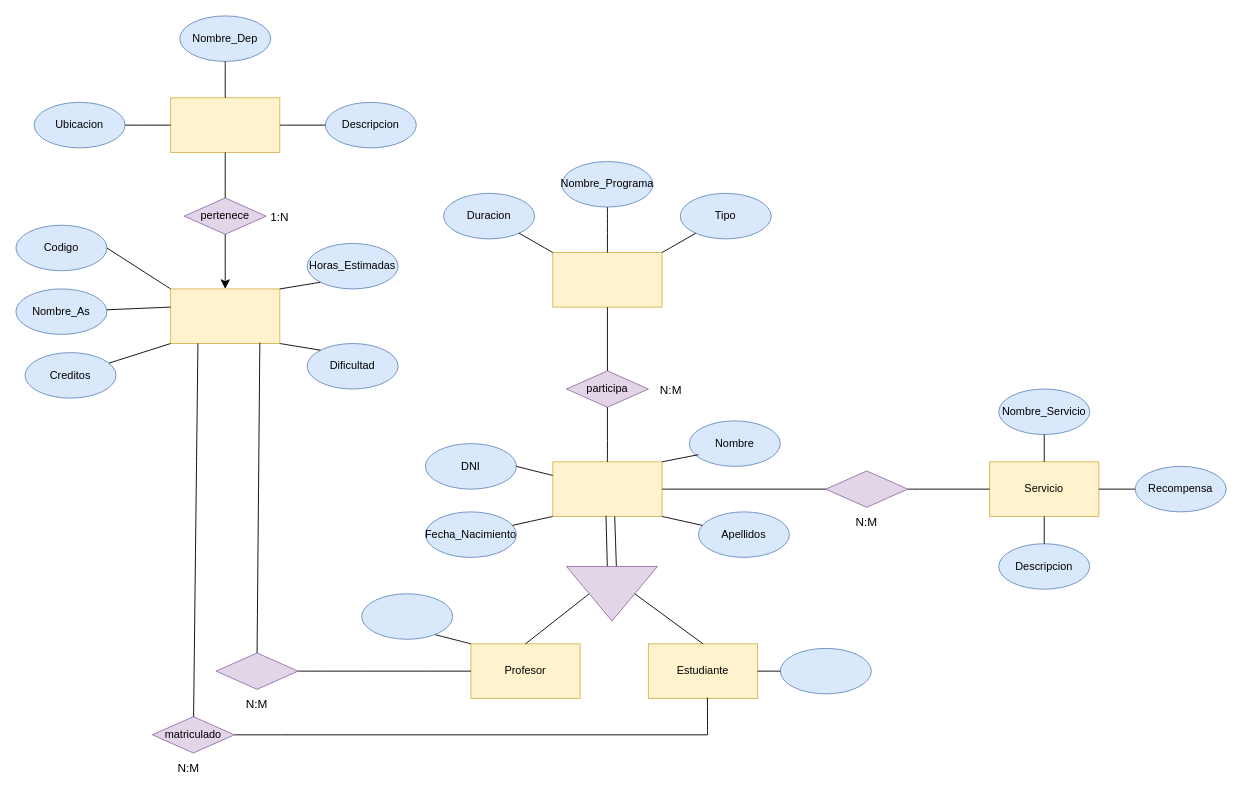
Some shapes in this 1242 by 796 pixel diagram are drawn without their labels. Each missing label, with the centre of its shape:
"asignado" belongs at [866,488].
"Asignatura" belongs at [225,316].
"Departamento" belongs at [225,124].
"Experiencia" belongs at [407,616].
"imparte" belongs at [256,670].
"Nota media" belongs at [825,670].
"Persona" belongs at [607,488].
"Programa" belongs at [607,279].
